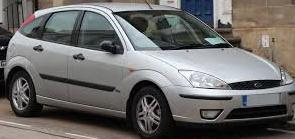Crossovers: (6, 5, 295, 139)
